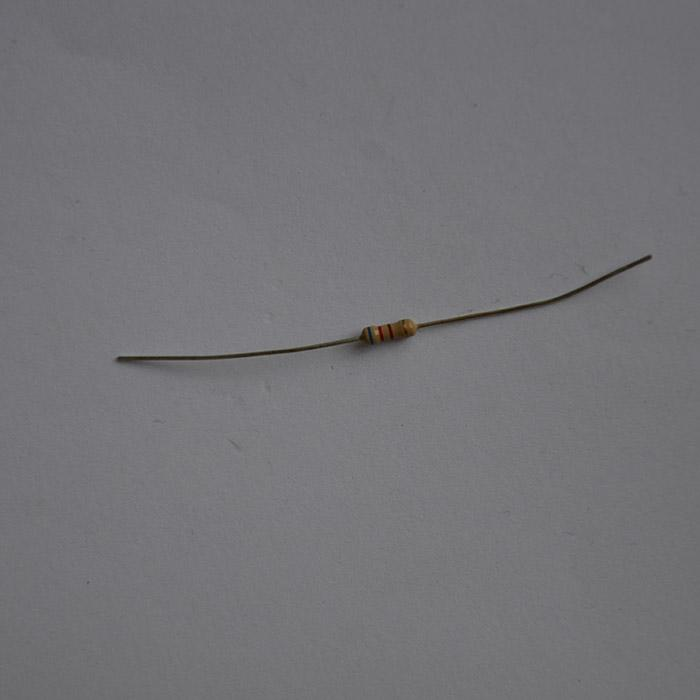resistor: (354, 359, 382, 418)
